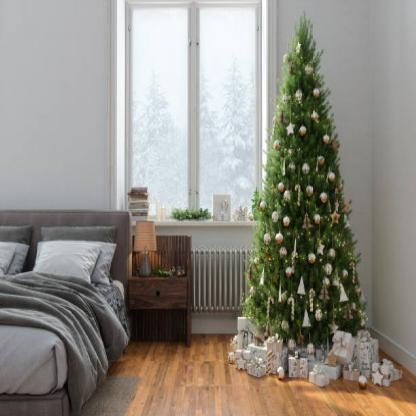Window: (127, 1, 261, 214)
